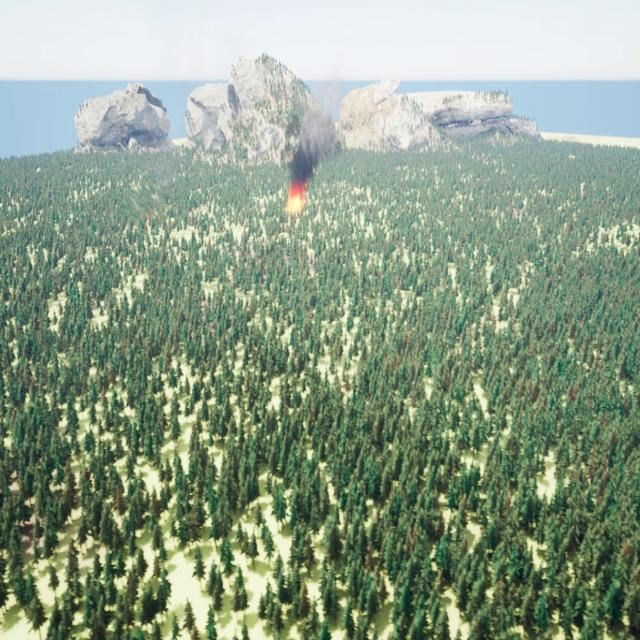fire: (284, 184, 306, 210)
smoke: (292, 80, 345, 175)
